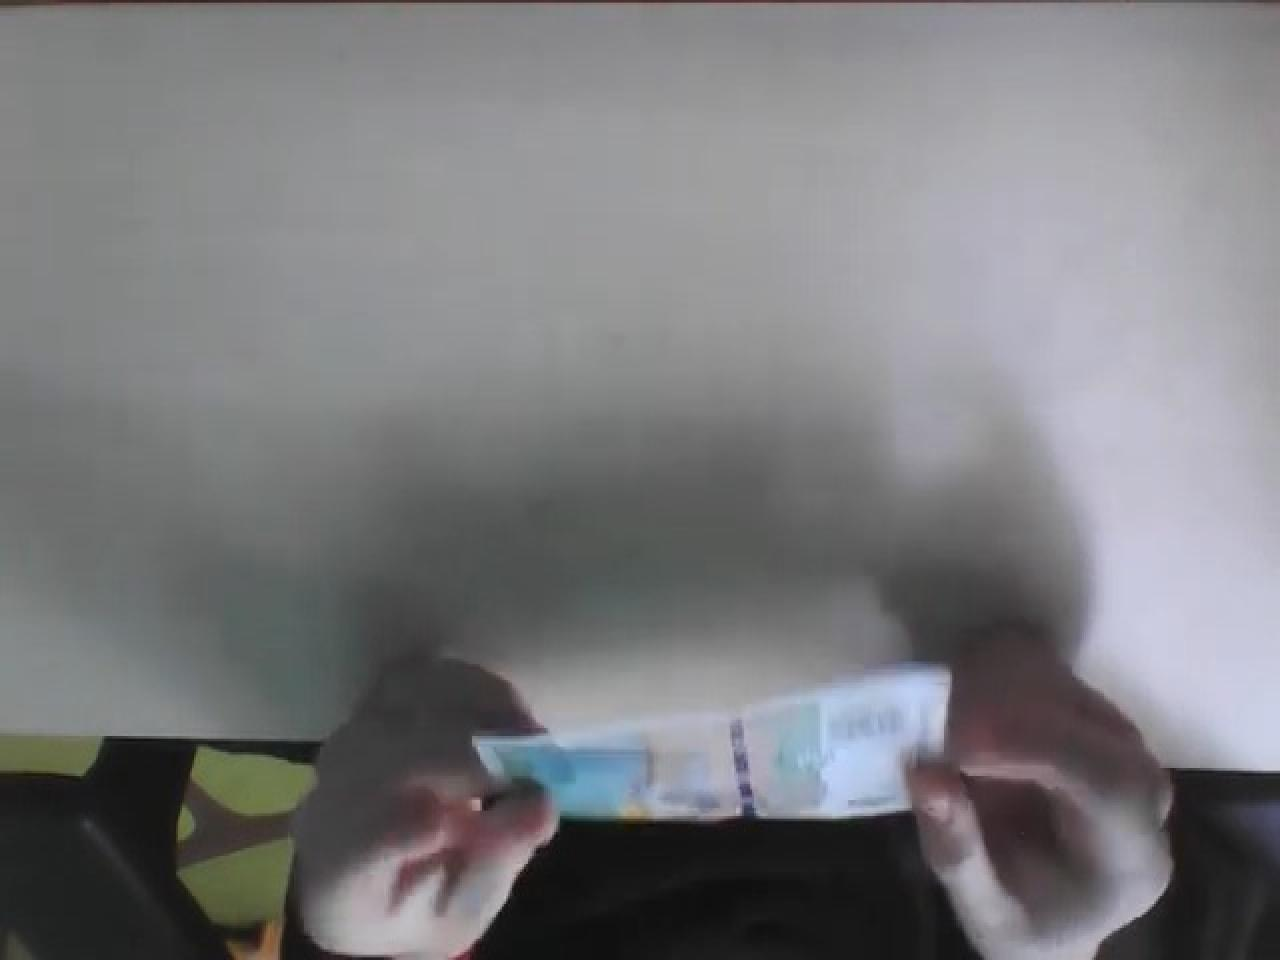100leva: (470, 662, 958, 830)
